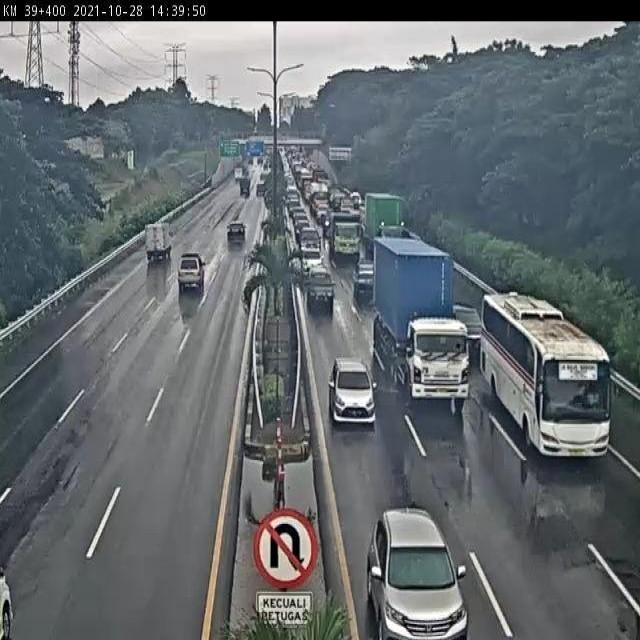big bus: (481, 292, 611, 459)
big truck: (369, 236, 472, 407)
car: (371, 506, 469, 640), (327, 358, 376, 426), (444, 297, 486, 352), (305, 269, 338, 312), (177, 253, 208, 291), (352, 259, 377, 297), (299, 224, 324, 256), (225, 220, 247, 243)
mid truck: (325, 212, 361, 257)
small truck: (140, 220, 175, 263)
